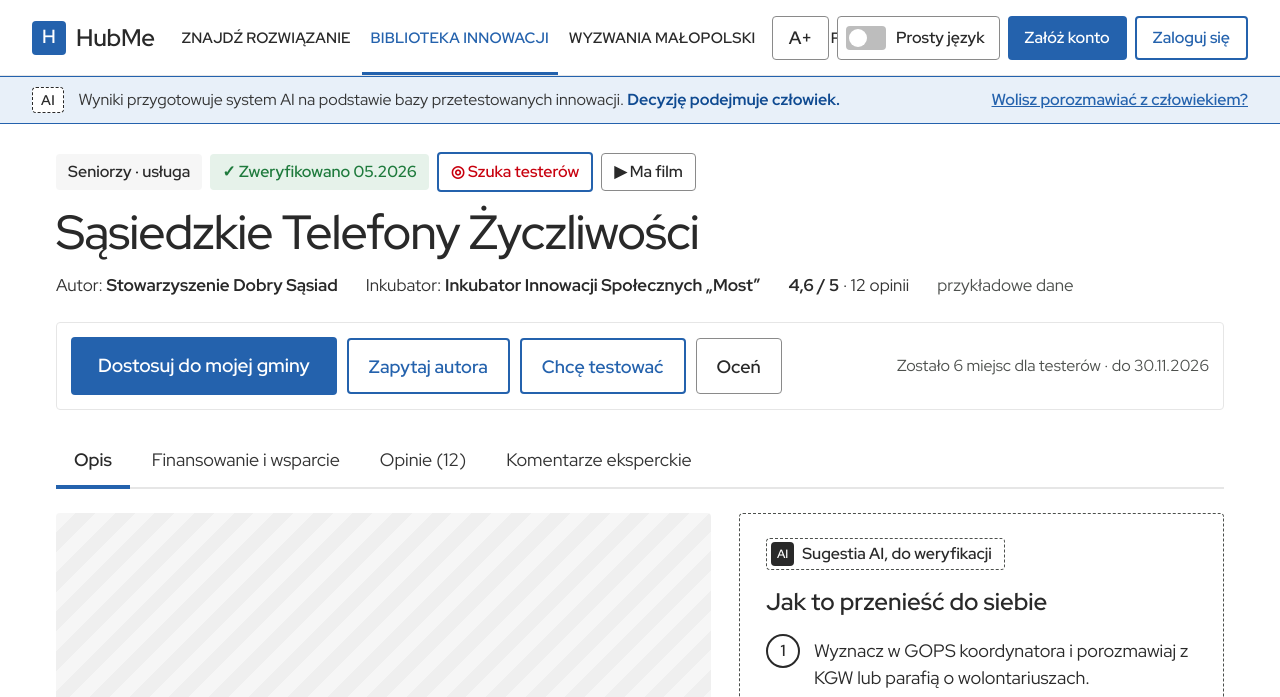
Test: adaptation › asks to sign in, then drafts the service for the entered municipality
The image size is (1280, 697).
Click the link "Dostosuj do mojej gminy" at (204, 366), box [71,337,337,395]
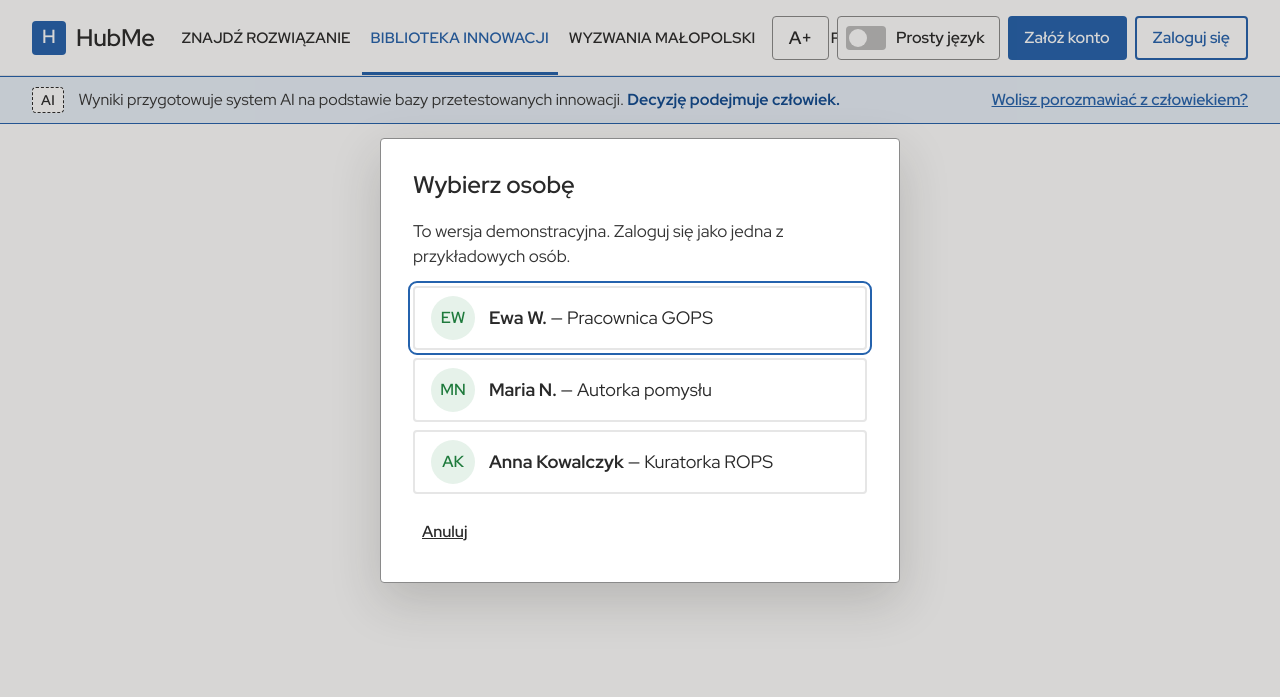
Click the button "EW Ewa W. — Pracownica GOPS" at (640, 318), box [413,286,867,350]
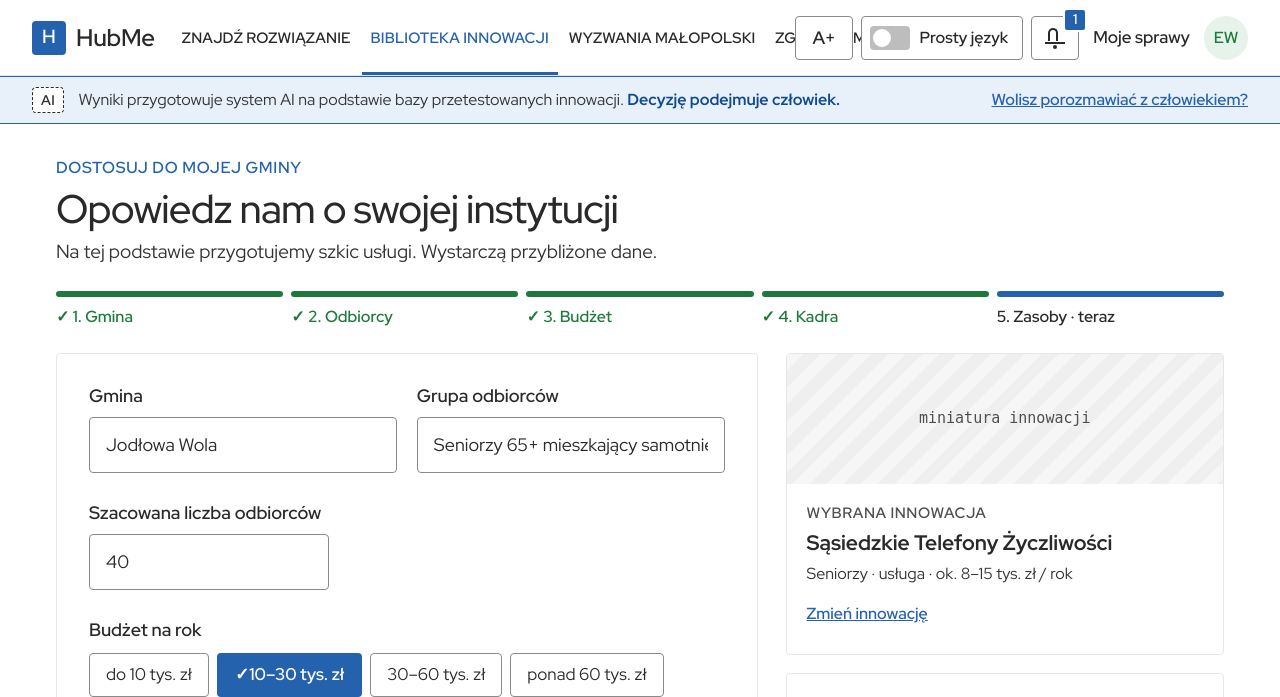
Expected: the heading "Opowiedz nam o swojej instytucji" is shown, [56,182,618,235]
Replace the text in the field labelled "Gmina" with "Lipnica" at (243, 444), box [89,416,397,472]
(page scrolled)
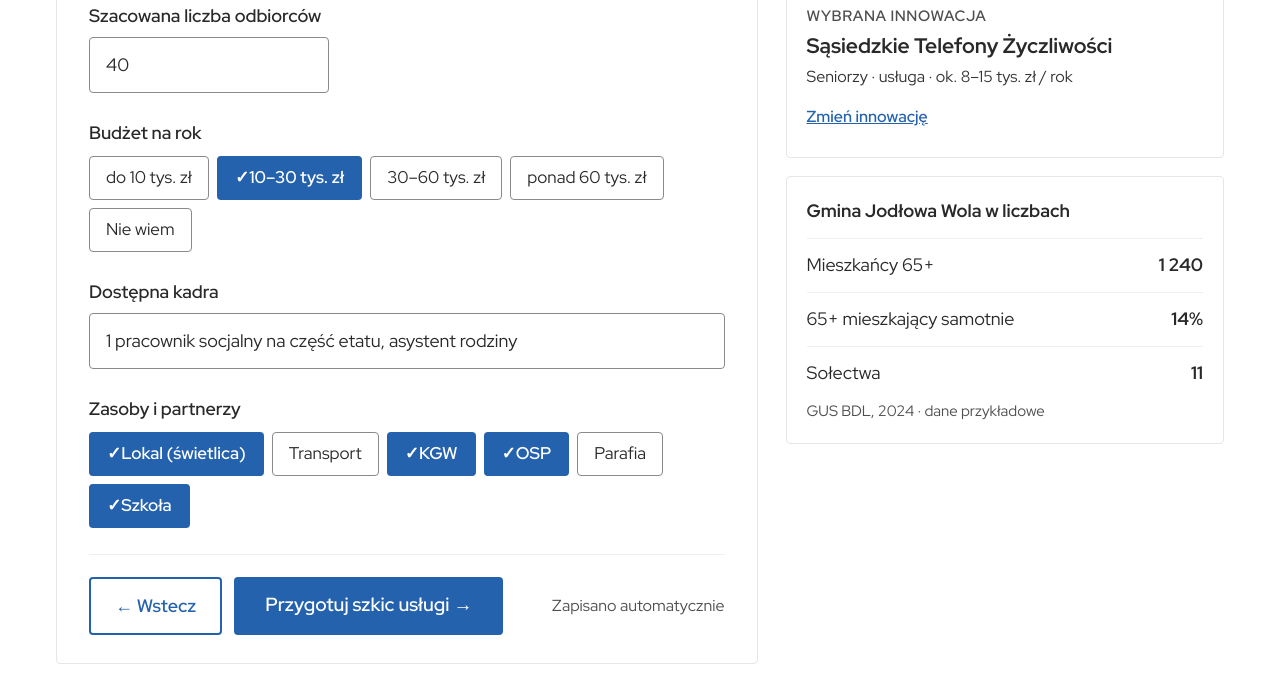
Click the button "Transport" at (325, 454), box [272,432,379,476]
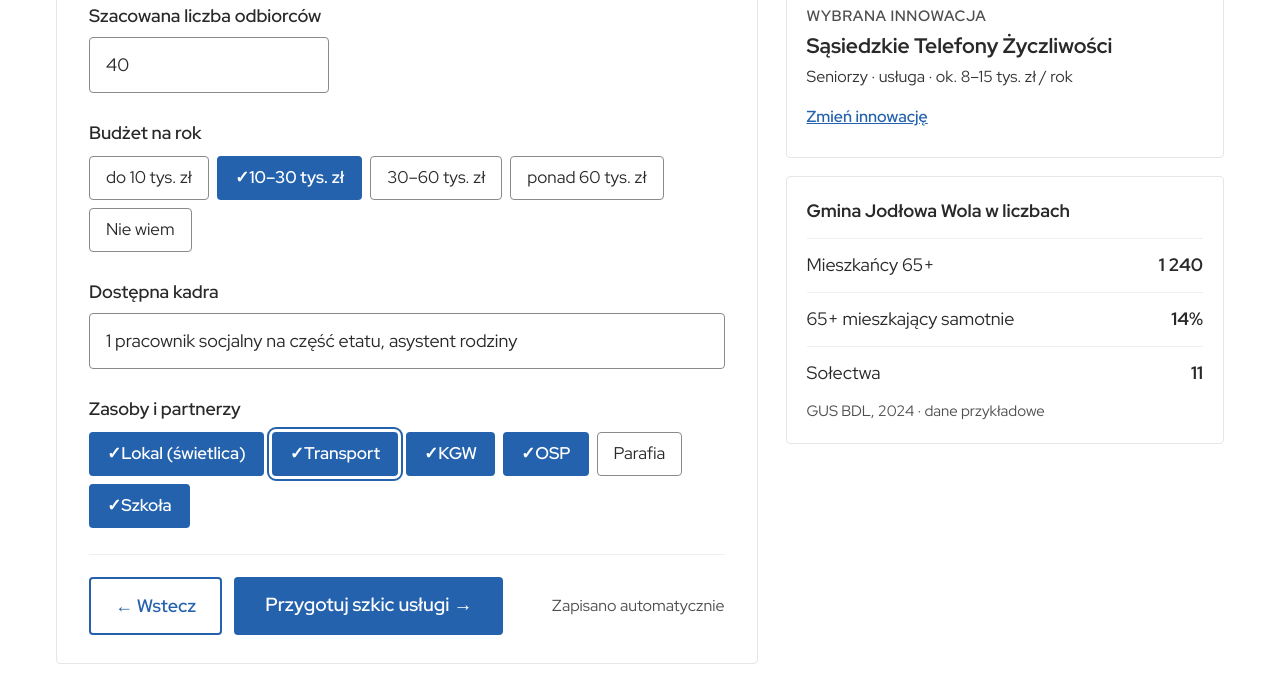
Click the button "Przygotuj szkic usługi →" at (369, 606), box [234,576,503,634]
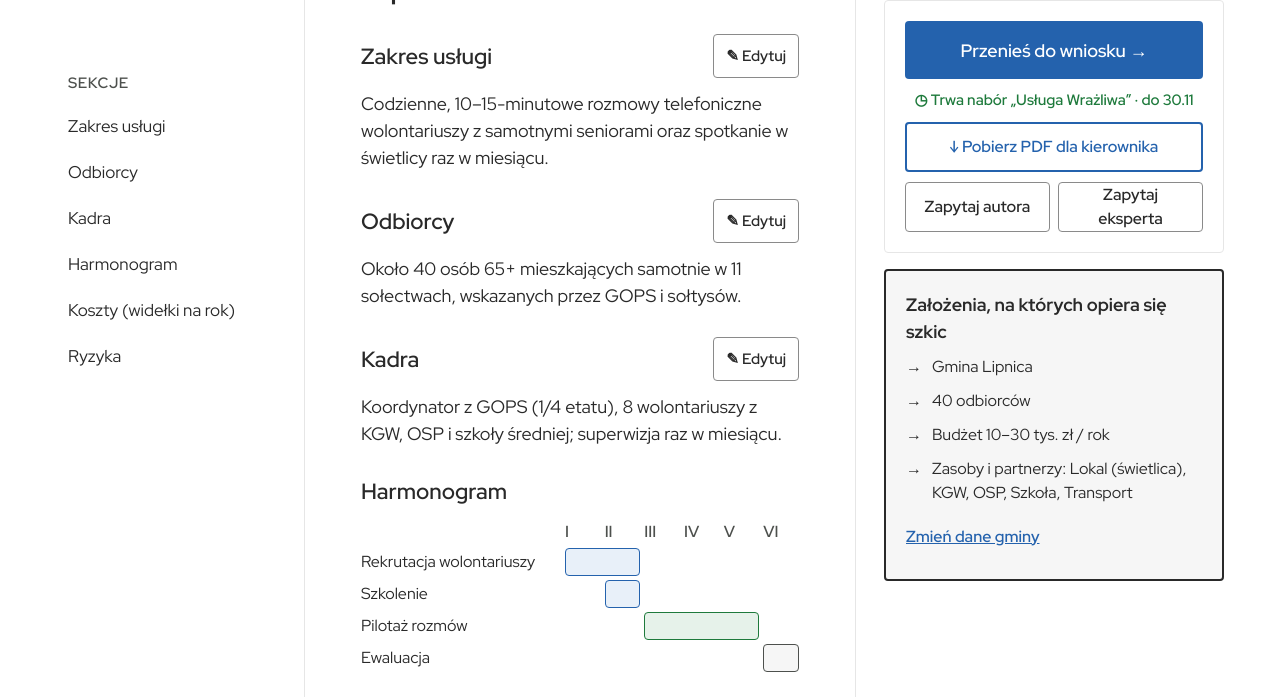
Expected: the heading "Kadra" is shown, [361,343,419,376]
Expected: the heading "Zakres usługi" is shown, [361,40,492,73]
Expected: the heading "Odbiorcy" is shown, [361,205,454,238]
